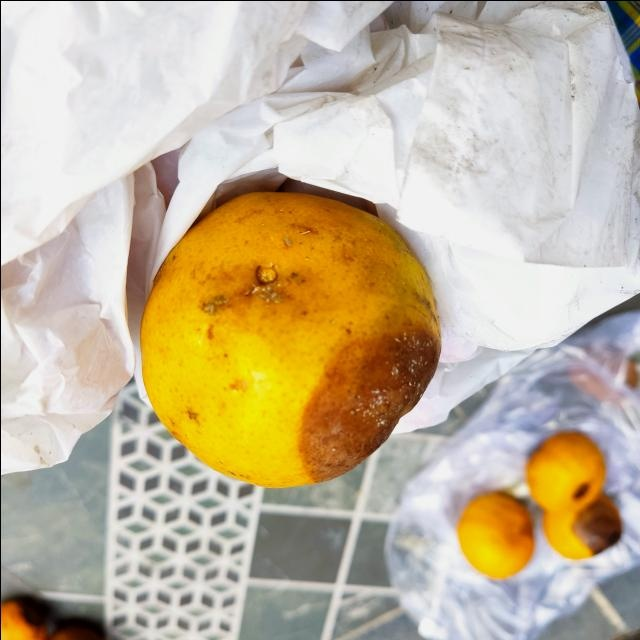agrume: (139, 184, 439, 488)
